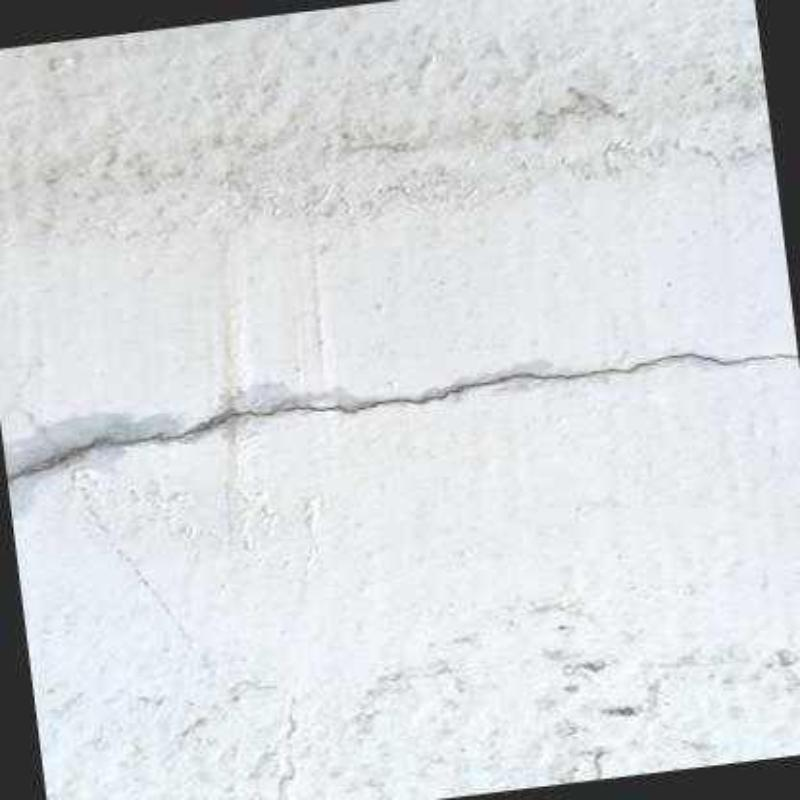pothole: (8, 353, 798, 481)
